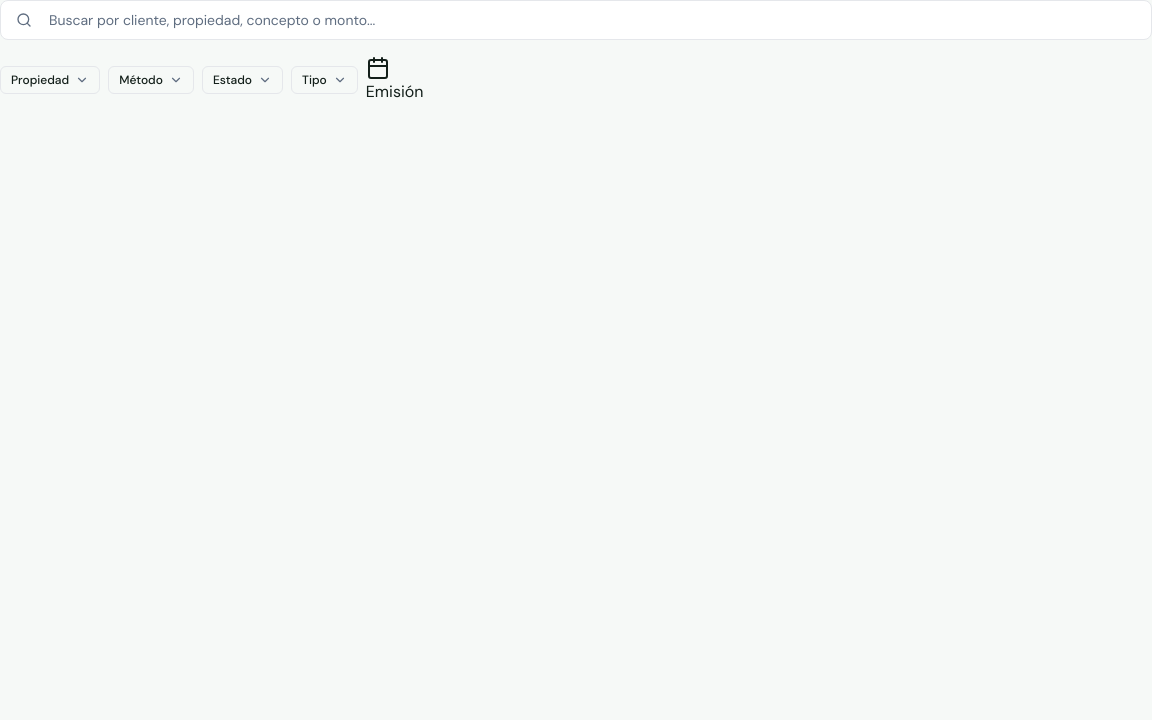
PaymentsFilters - cambiar el campo de fecha › el selector vive dentro del calendario, no en un chip aparte
This screenshot has width=1152, height=720.
Click the button "Emisión". click: (395,80)
box: [366,56,424,104]
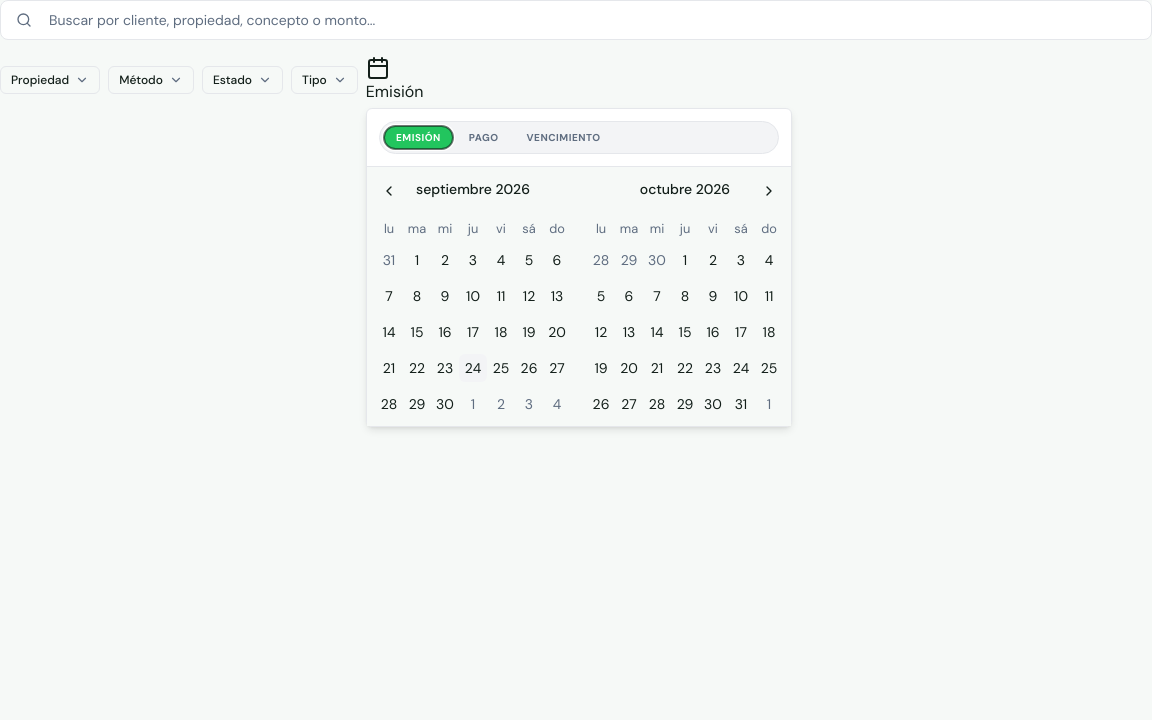
expect the element named "fecha sobre la que filtrar" is shown: met, box [379,121,779,154]
